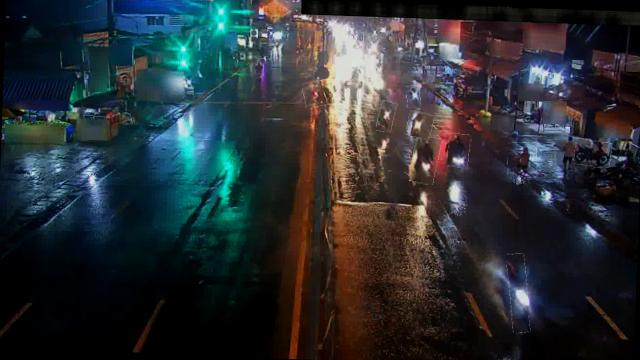Bike: (506, 252, 530, 334), (410, 134, 440, 184), (507, 142, 538, 178), (574, 139, 612, 168), (302, 80, 336, 109), (447, 134, 471, 168), (406, 112, 434, 139), (377, 100, 396, 132), (406, 85, 420, 109), (256, 58, 264, 78)
